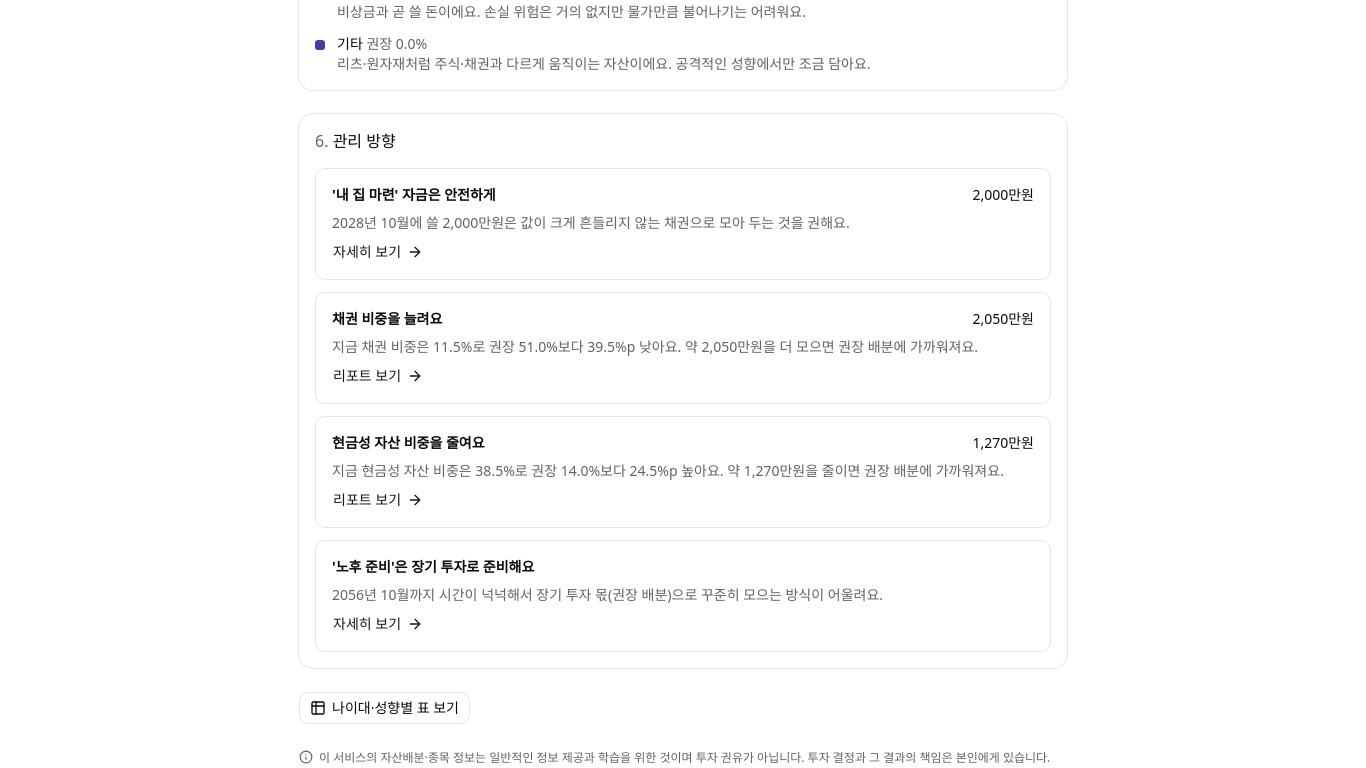
상세 설명(9.6) › 표 다이얼로그에서 내 칸을 강조한다
(page scrolled)
Click the button "나이대·성향별 표 보기".
click(384, 708)  # box left=299, top=692, right=470, bottom=724
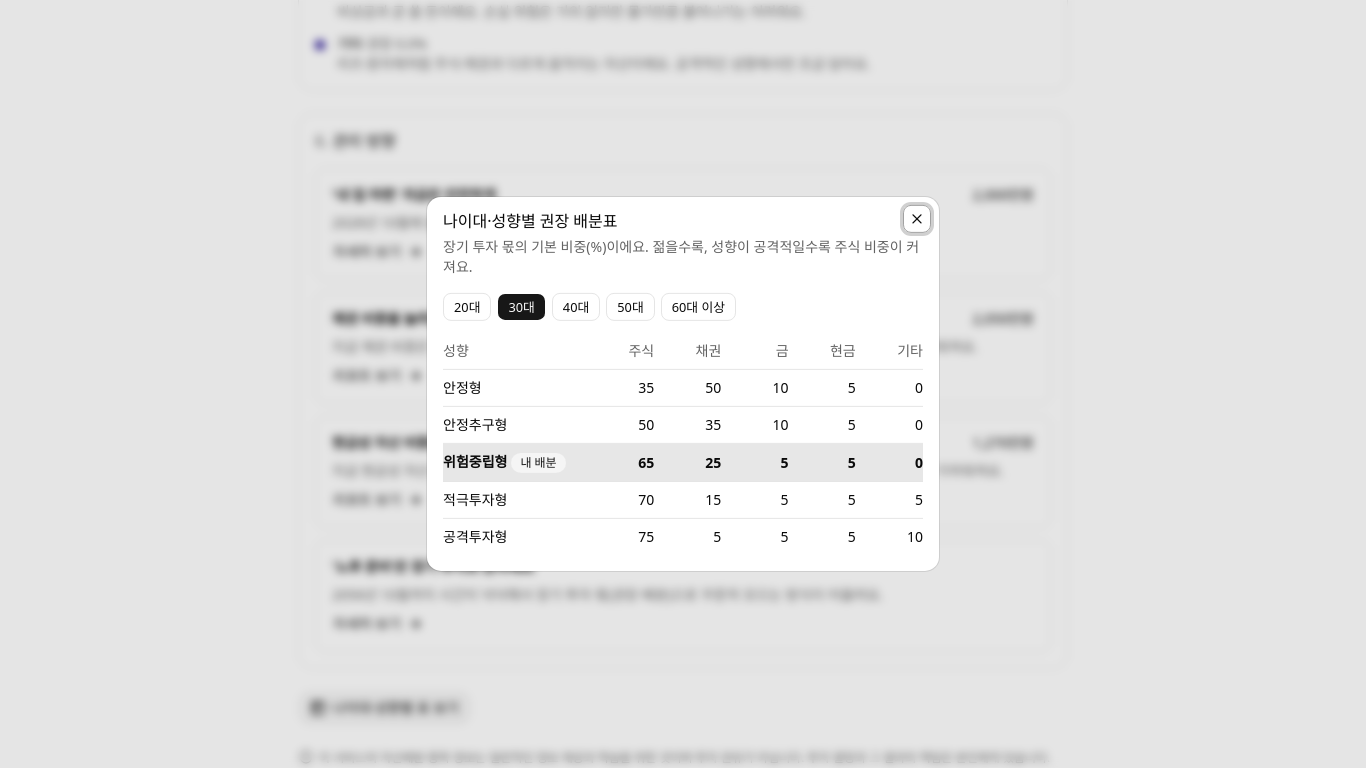
Check: the text "내 배분" shows "위험중립형", box left=443, top=452, right=507, bottom=471
Check: the cells read "65", "25", "5", "5", "0", in this order, box left=587, top=443, right=654, bottom=482; left=654, top=443, right=721, bottom=482; left=721, top=443, right=789, bottom=482; left=789, top=443, right=856, bottom=482; left=856, top=443, right=923, bottom=482
Click the button "20대".
click(467, 307)  # box left=443, top=293, right=491, bottom=321
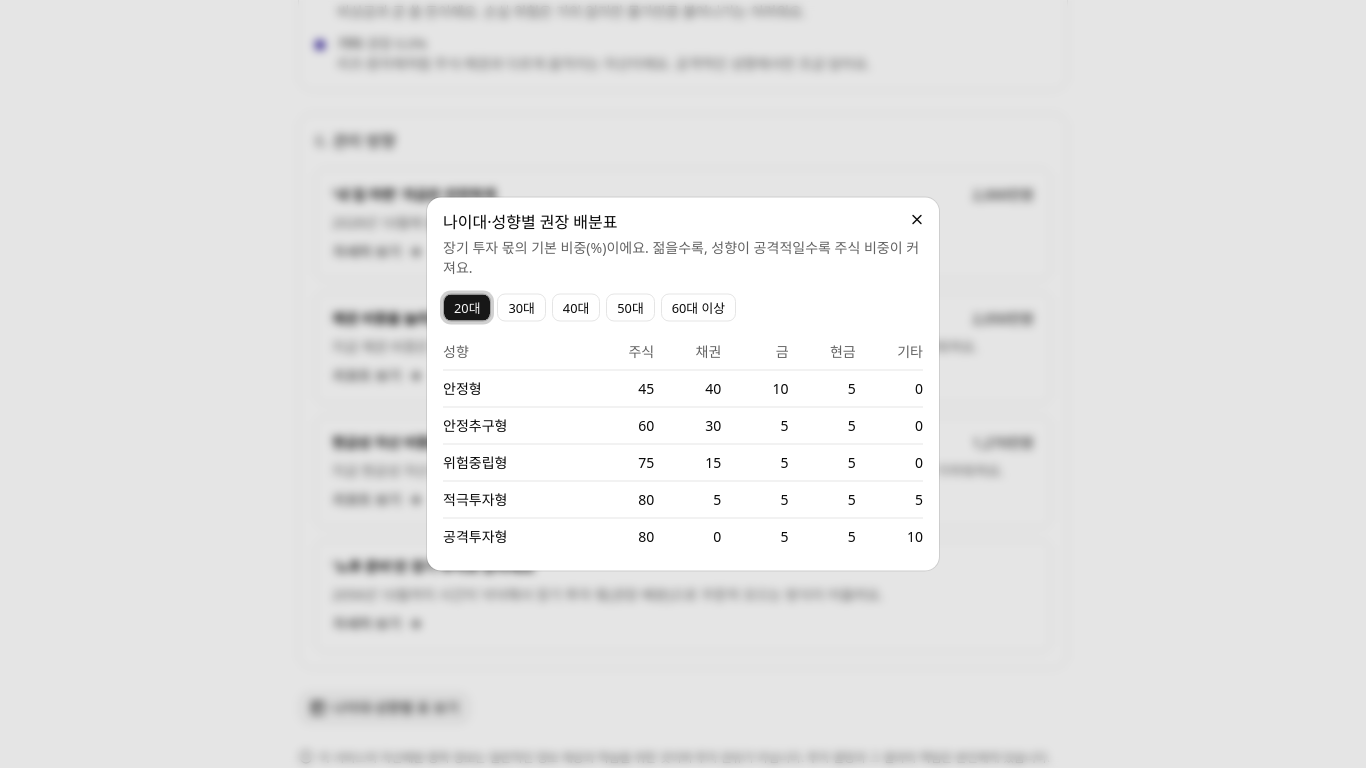
Check: the icon "내 배분" is gone
Check: the cells read "80", "0", "5", "5", "10", in this order, box left=587, top=518, right=654, bottom=554; left=654, top=518, right=721, bottom=554; left=721, top=518, right=789, bottom=554; left=789, top=518, right=856, bottom=554; left=856, top=518, right=923, bottom=554
